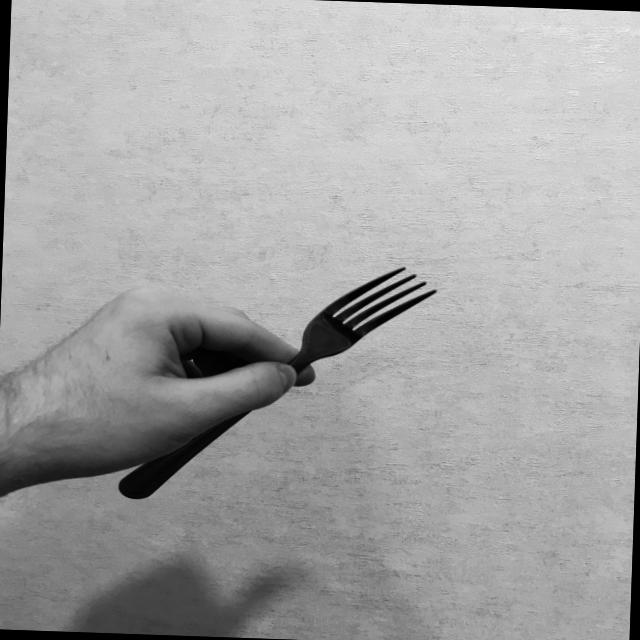fork: (115, 258, 440, 512)
